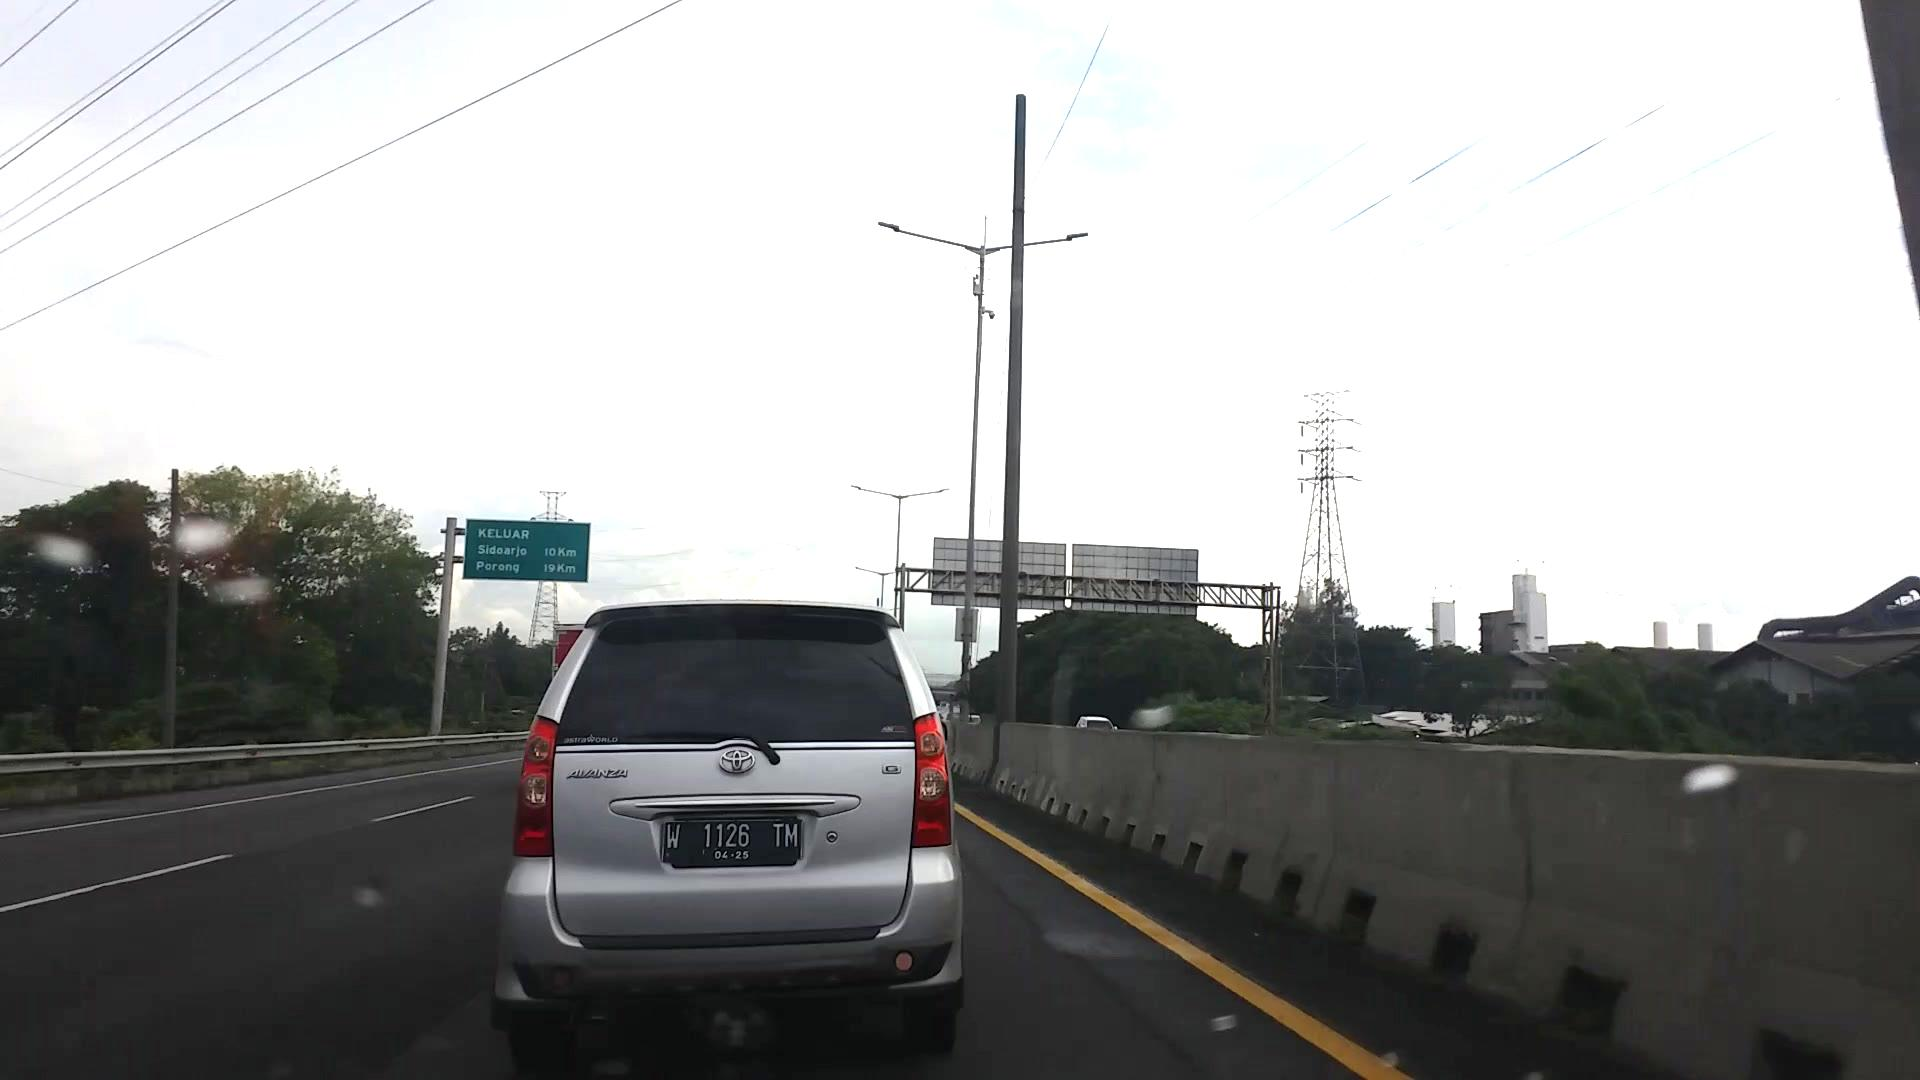plate_positive: (661, 819, 800, 860)
